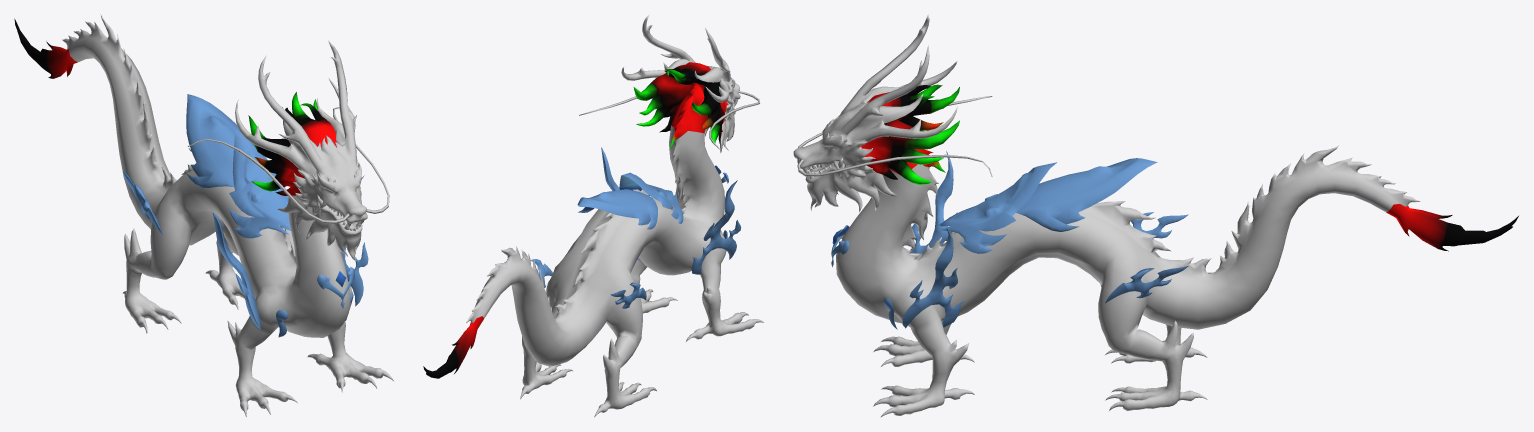
The model's file is long_5.fbx.
The picture shows the model from 3 angles, left to right: view 1: azimuth 30°, elevation 25°; view 2: azimuth 150°, elevation 25°; view 3: azimuth 270°, elevation 25°; orthographic projection. The views are drawn at different scales.
Parts seen in each view (by area): view 1: PetRide_00246_01, PetRide_00246_02, Object001; view 2: PetRide_00246_01, Object001, PetRide_00246_02; view 3: PetRide_00246_01, PetRide_00246_02, Object001.
Part boxes in pixels (x1,y1,x2,y2): PetRide_00246_01: (62,14,393,416); PetRide_00246_02: (122,94,368,337); Object001: (14,18,336,195); PetRide_00246_01: (466,14,763,417); Object001: (423,62,728,378); PetRide_00246_02: (530,147,741,308); PetRide_00246_01: (793,14,1420,417); PetRide_00246_02: (831,151,1188,329); Object001: (861,84,1518,251).
Size of the model in its own units: 2.67 by 5.43 by 10.14.
